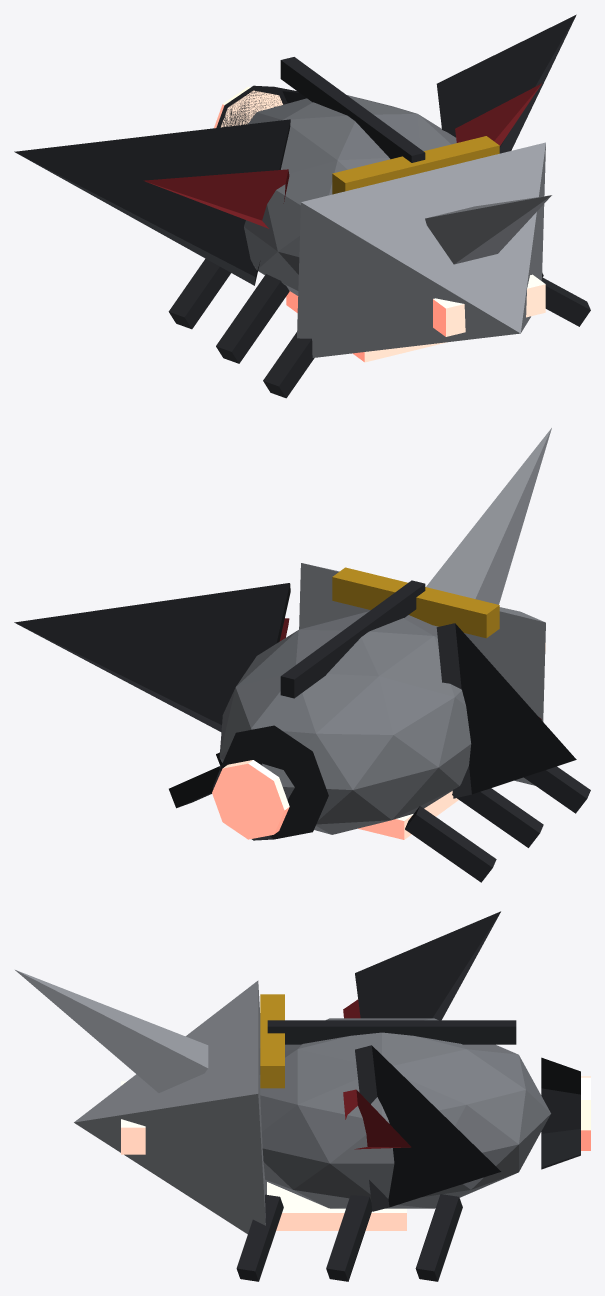
The model's file is kamikaze.glb.
The picture shows the model from 3 angles, top to bottom: view 1: azimuth 30°, elevation 25°; view 2: azimuth 150°, elevation 25°; view 3: azimuth 270°, elevation 25°; orthographic projection. The views are drawn at different scales.
Parts seen in each view (by area): view 1: DKamikazeHull, DKamikazeGlow; view 2: DKamikazeHull, DKamikazeGlow; view 3: DKamikazeHull, DKamikazeGlow.
Part boxes in pixels (x1,y1,x2,y2): DKamikazeHull: (14,14,590,398); DKamikazeGlow: (214,86,545,362); DKamikazeHull: (14,428,590,882); DKamikazeGlow: (212,643,545,839); DKamikazeHull: (15,911,580,1281); DKamikazeGlow: (121,1076,590,1230).
Size of the model in its own units: 1.24 by 0.5366 by 1.16.
